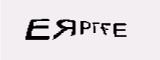В: (35, 19, 53, 41), (86, 17, 103, 39)
Н: (103, 16, 124, 40)
Р: (71, 16, 86, 39)
Х: (51, 17, 73, 40)
